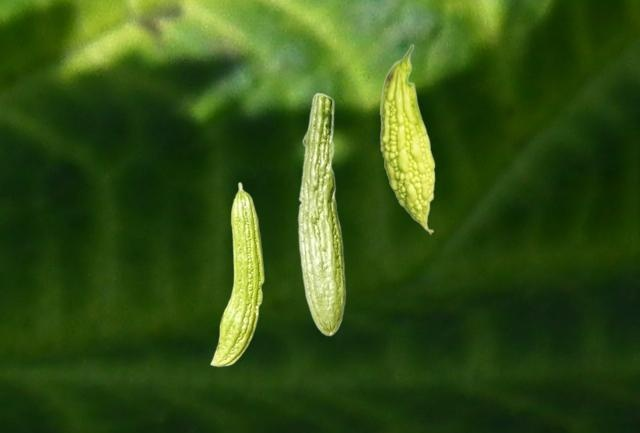ampalaya: (297, 92, 346, 336), (378, 44, 435, 237), (209, 181, 265, 367)
